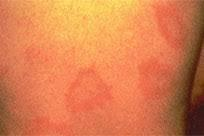Tick: (66, 71, 110, 109), (140, 61, 168, 99), (156, 6, 181, 43)
